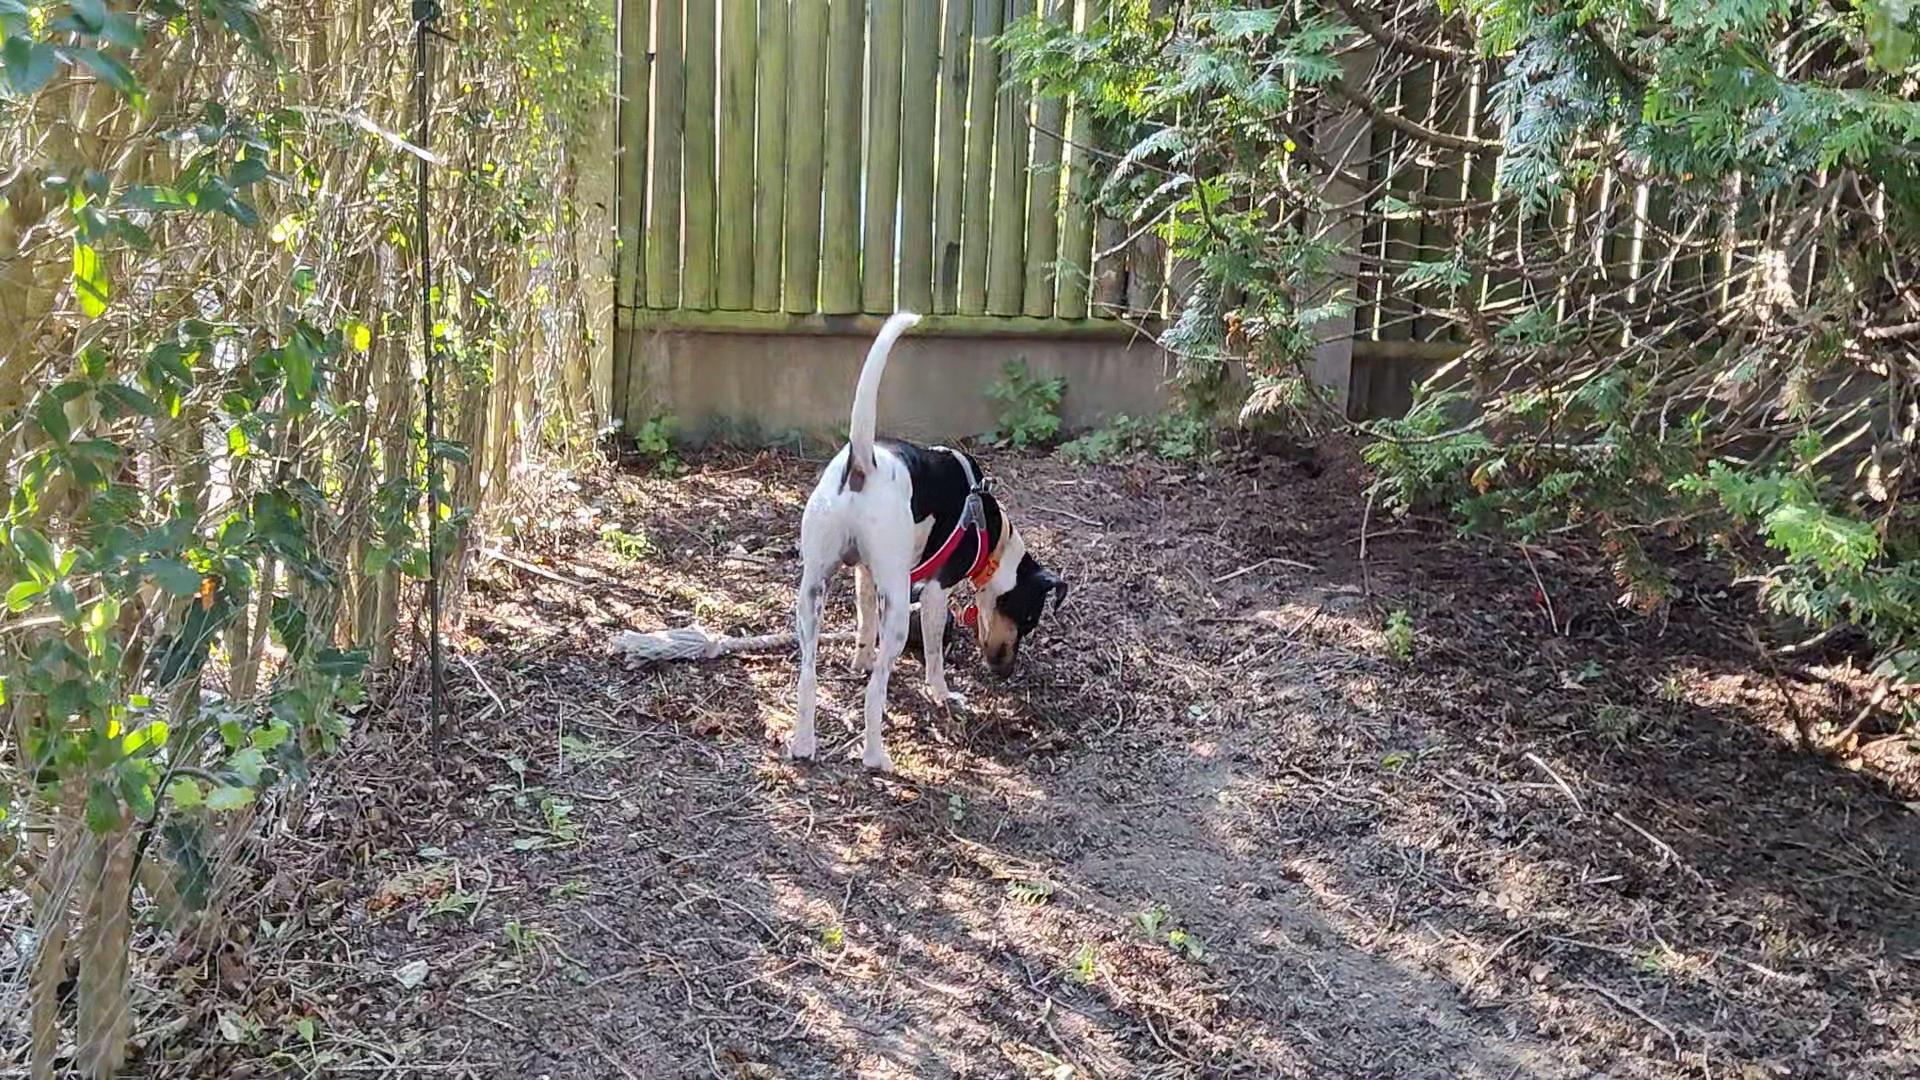Dog: (765, 293, 1077, 781)
